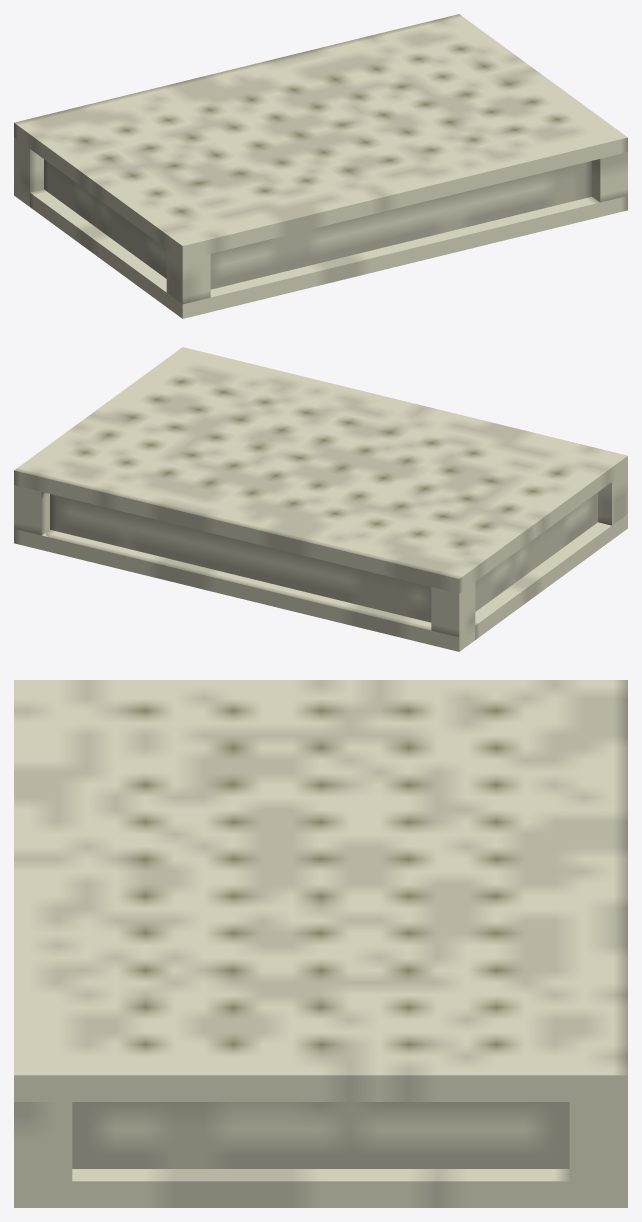
Rendered from materac_brudny.dae.
3 views of the same model, one above another, from view 1: azimuth 30°, elevation 25°; view 2: azimuth 150°, elevation 25°; view 3: azimuth 270°, elevation 25° (orthographic). The views are drawn at different scales.
Parts seen in each view (by area): view 1: Content; view 2: Content; view 3: Content.
Boxes of the visible parts, x1,y1,x2,y2 form: Content: [14, 14, 627, 318]; Content: [14, 347, 627, 651]; Content: [14, 680, 627, 1207].
Bounding box in the file's own units: 32 × 5 × 21.
1 material, 1 textured.
